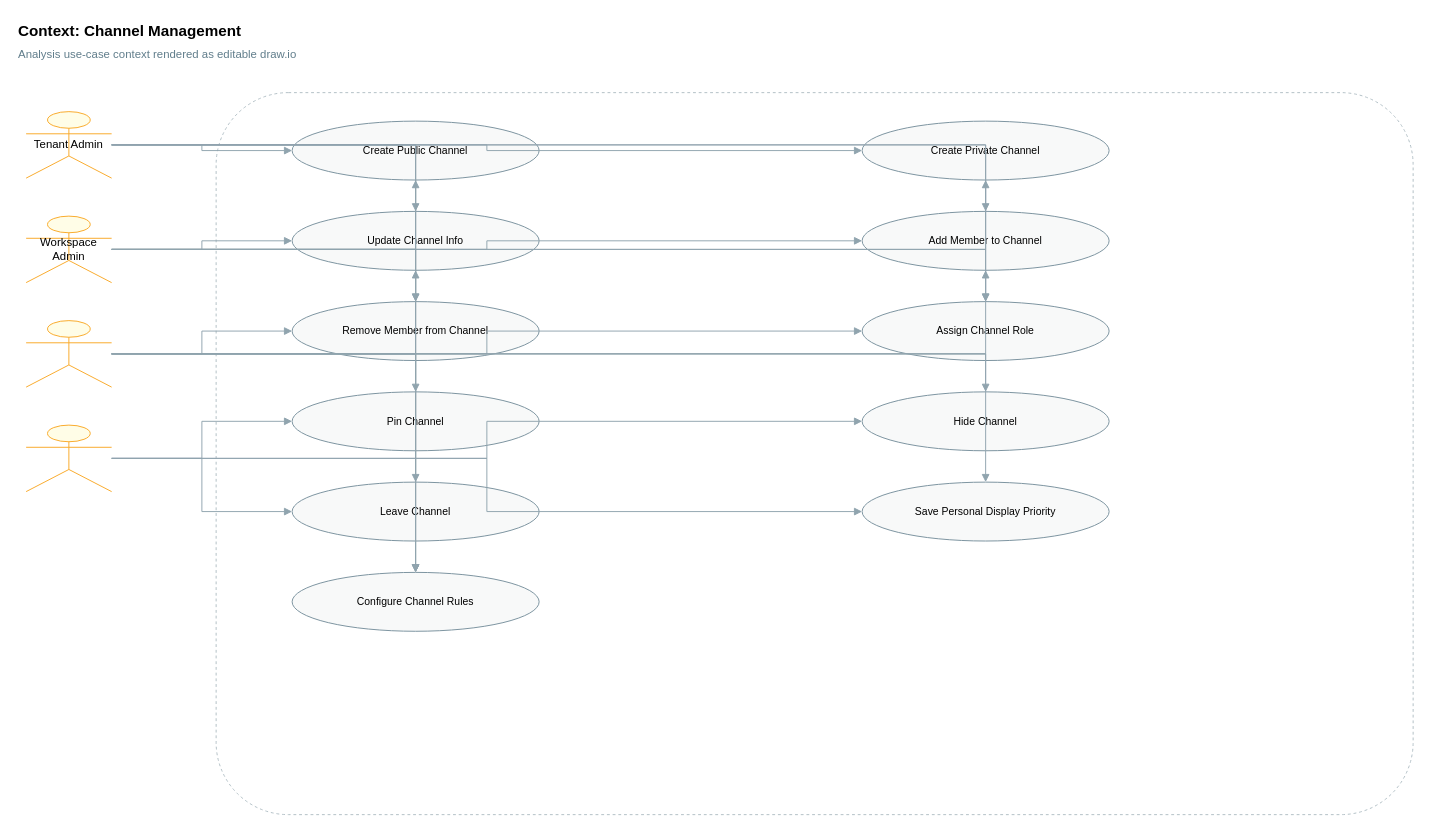
Some shapes in this 1430 by 831 pixel diagram are drawn without their labels. The shapes that lost their labels are listed below. From the top down, each one's centre as x and y in pixels, then its label:
point (68, 353): Channel Admin
point (68, 458): Member
